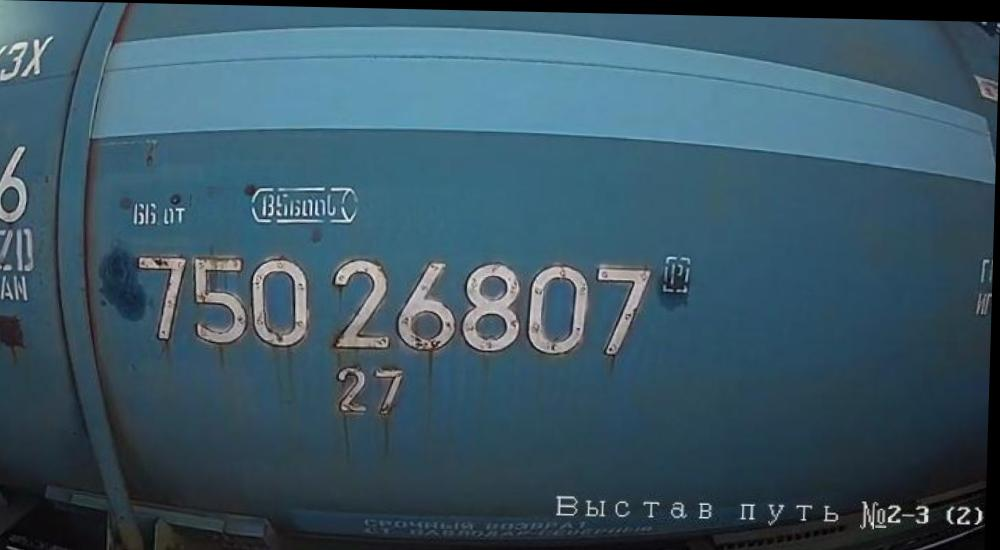Wagon-number: (136, 241, 660, 362)
